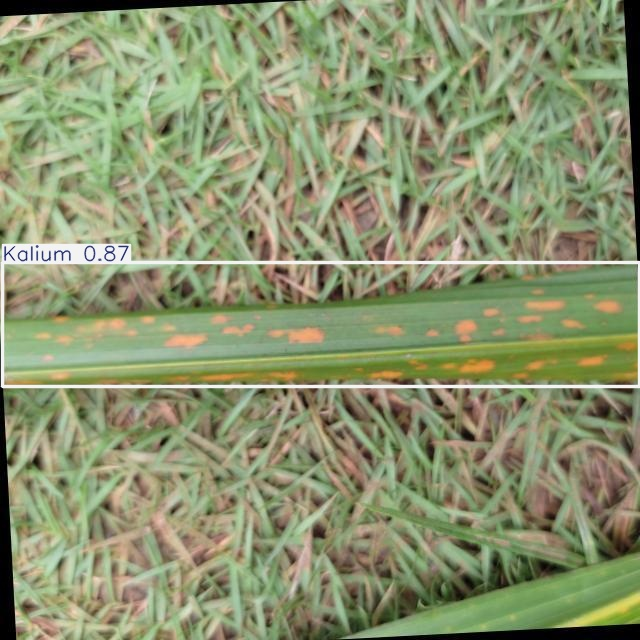Kalium: (3, 263, 640, 387)
